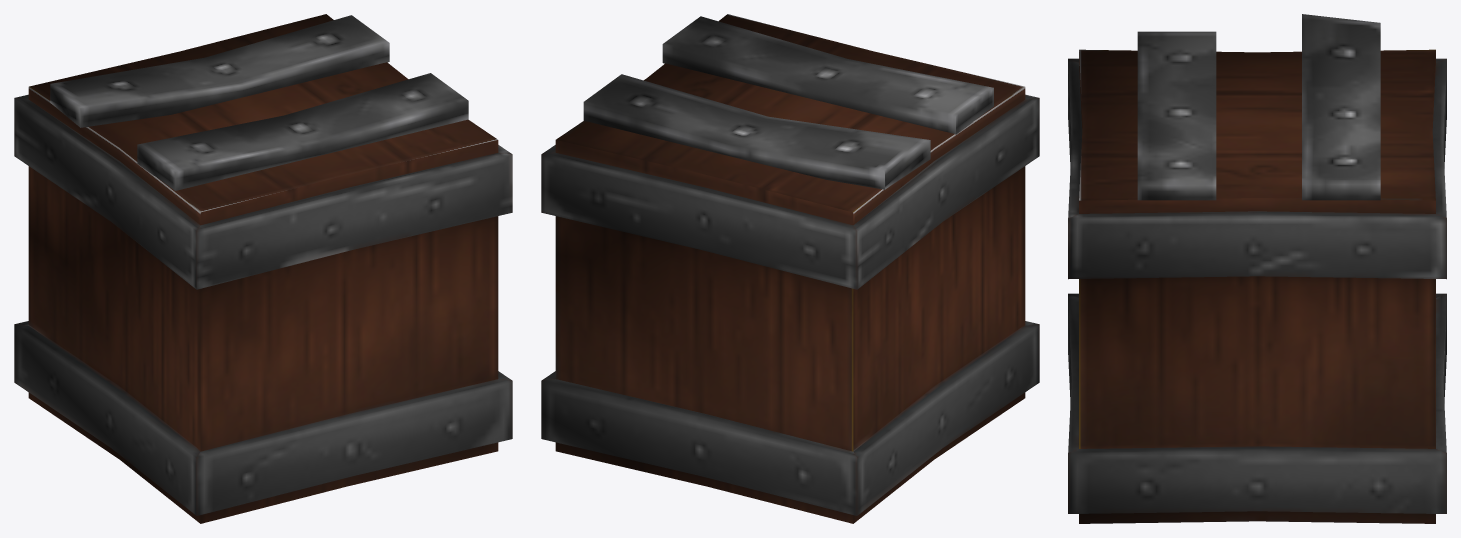
3 views of the same model, side by side, from view 1: azimuth 30°, elevation 25°; view 2: azimuth 150°, elevation 25°; view 3: azimuth 270°, elevation 25° (orthographic). The views are drawn at different scales.
Parts seen in each view (by area): view 1: Box MODULO 05; view 2: Box MODULO 05; view 3: Box MODULO 05.
Boxes of the visible parts, left/top/right/bottom form: Box MODULO 05: left=14, top=14, right=512, bottom=523; Box MODULO 05: left=541, top=14, right=1039, bottom=523; Box MODULO 05: left=1068, top=14, right=1446, bottom=523.
Size of the model in its own units: 215 by 218 by 212.
